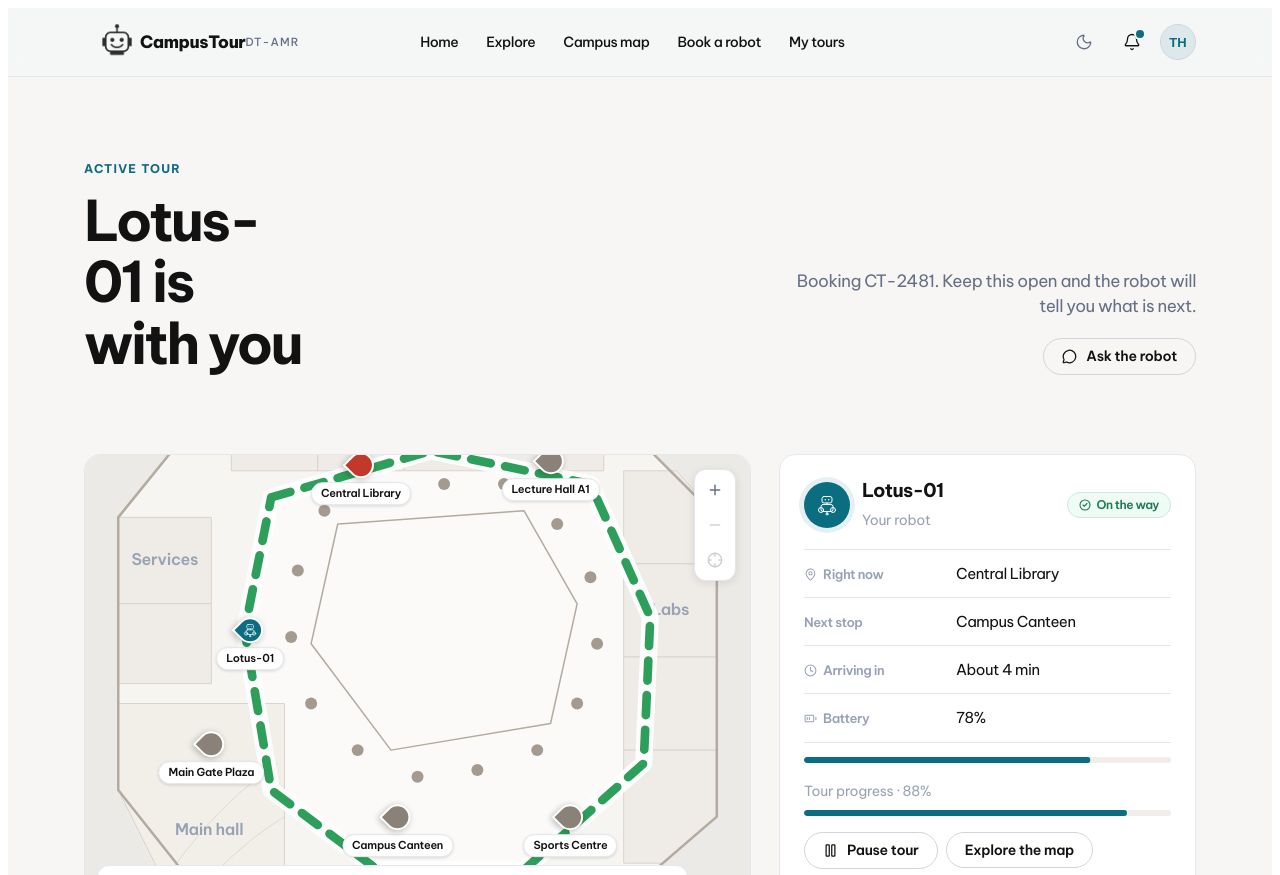
visitor journeys › confirms tour commands and opens the assistant from an active tour
Click the button "Pause tour". click: x=871, y=850
box: left=804, top=832, right=938, bottom=869
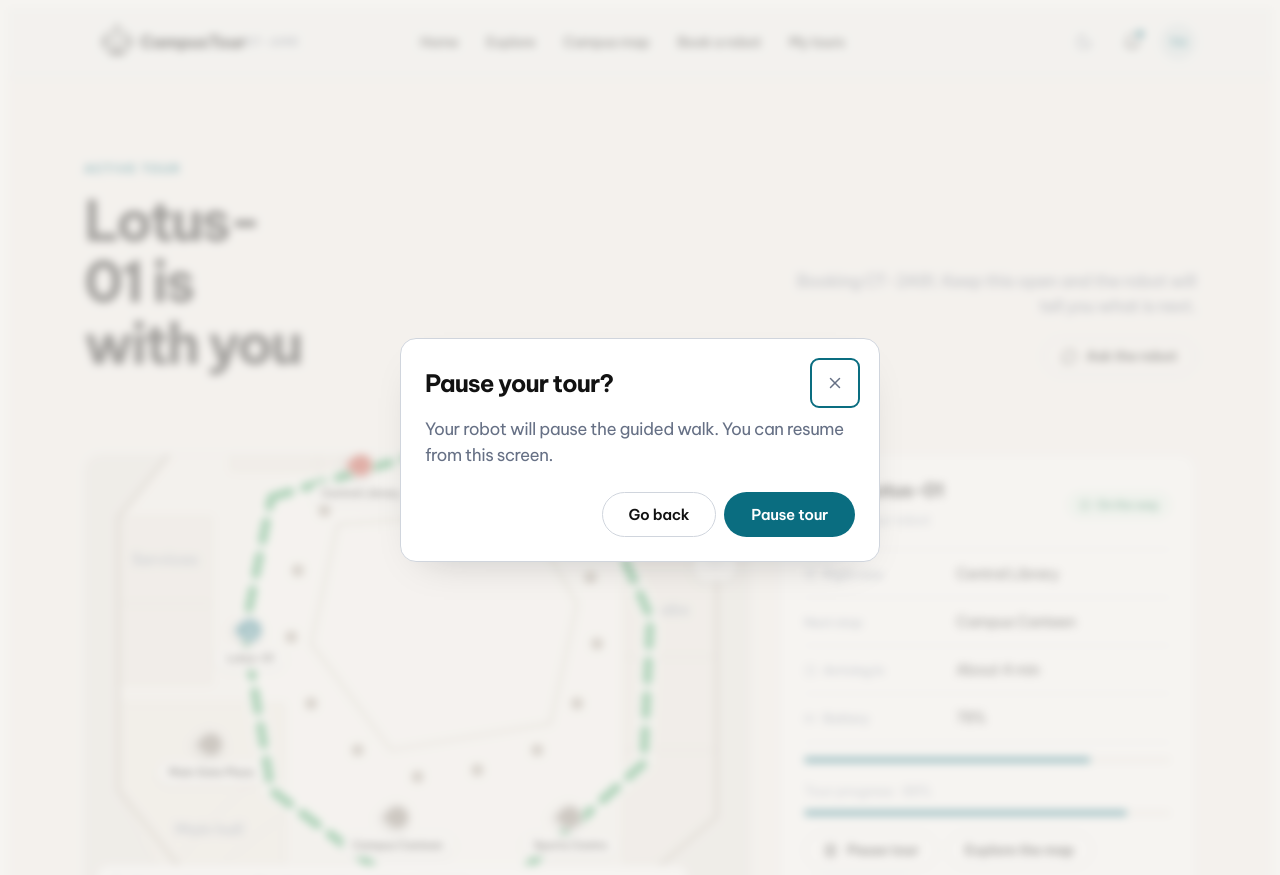
Click the button "Pause tour". click: x=790, y=514
box: left=724, top=492, right=855, bottom=537
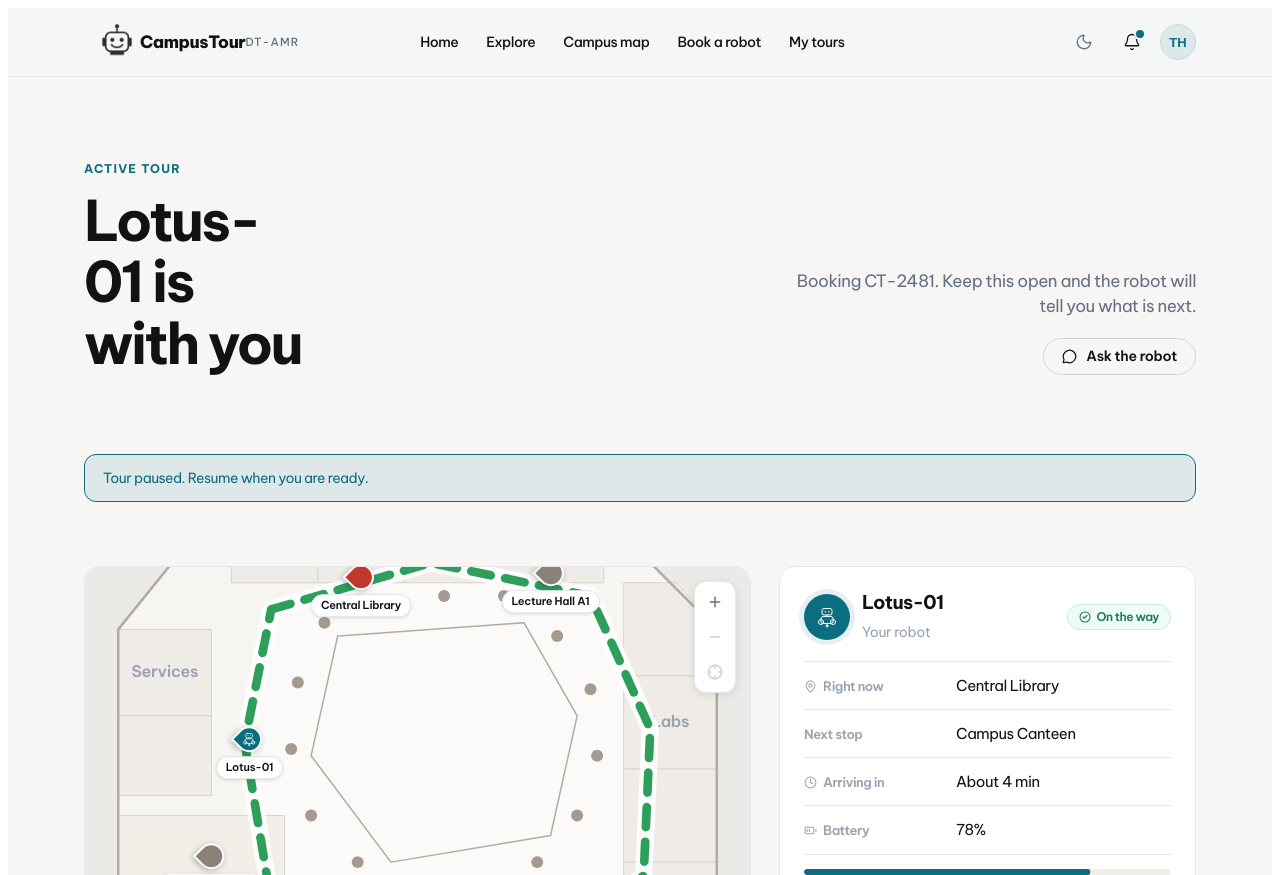
Expected: the text "Tour paused. Resume when you are ready." is shown, left=84, top=454, right=1196, bottom=502
Click the link "Ask the robot". click: x=1120, y=356
box: left=1043, top=338, right=1196, bottom=375
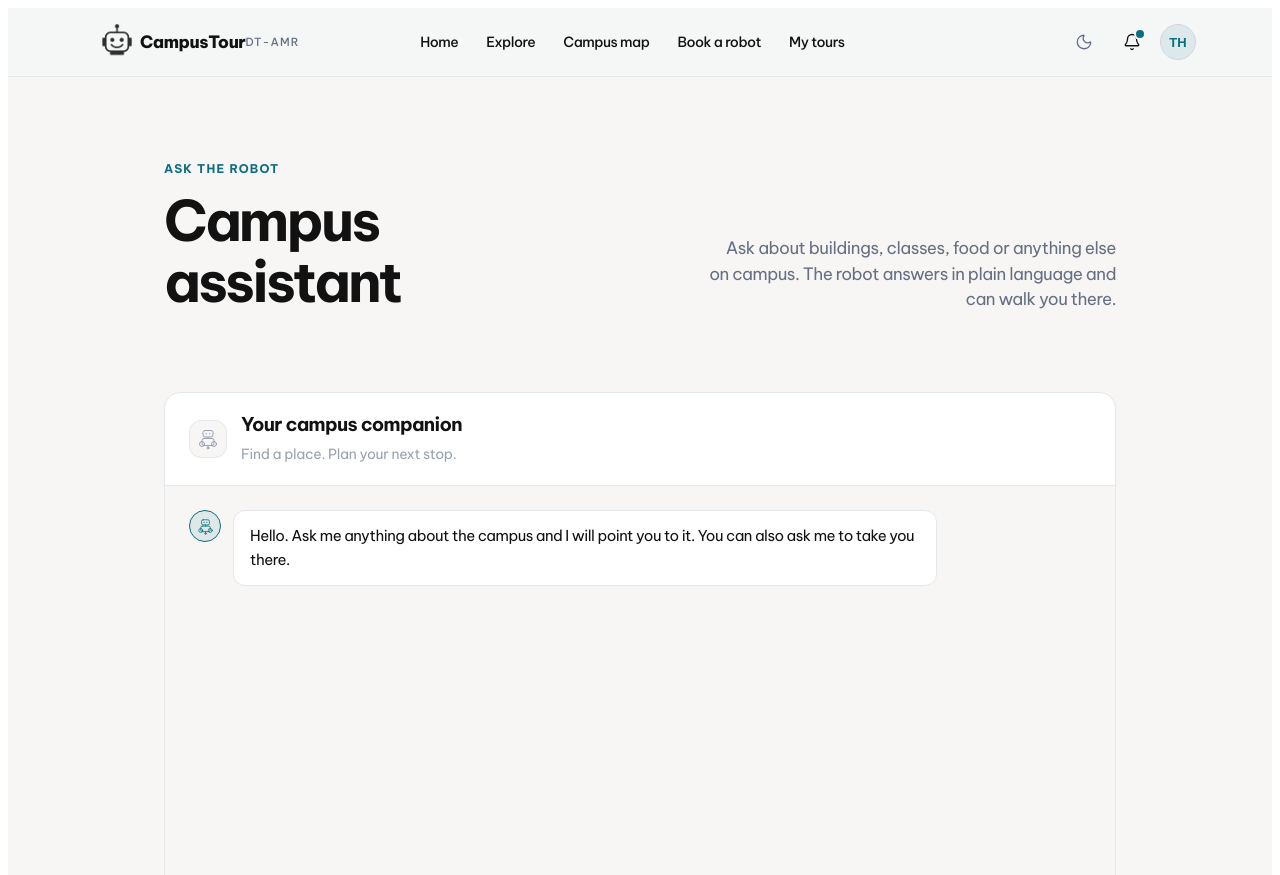
Expected: the heading "Campus assistant" is shown, left=164, top=190, right=402, bottom=313
